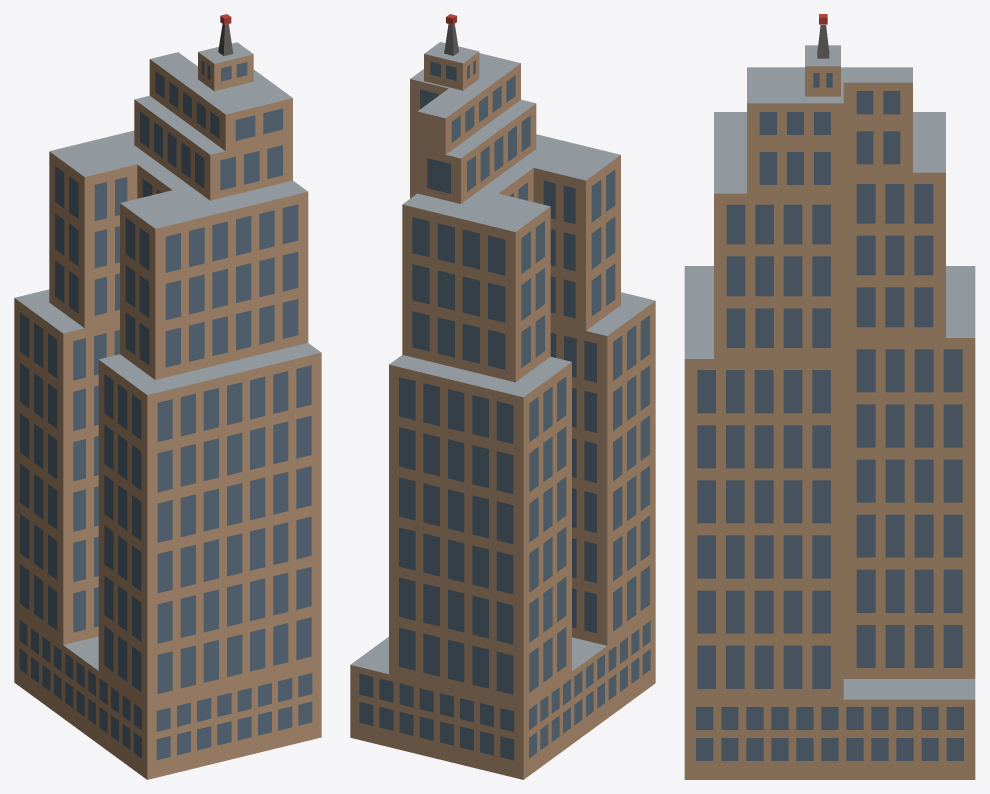
The model's file is pit-grant-building.glb.
The picture shows the model from 3 angles, left to right: view 1: azimuth 30°, elevation 25°; view 2: azimuth 150°, elevation 25°; view 3: azimuth 270°, elevation 25°; orthographic projection. The views are drawn at different scales.
Visible parts, largest first — view 1: Grant Building; view 2: Grant Building; view 3: Grant Building.
Boxes of the visible parts, <box> form: Grant Building: <box>14,14,321,779</box>; Grant Building: <box>350,14,655,779</box>; Grant Building: <box>684,14,975,779</box>.
Size of the model in its own units: 39.88 by 149 by 52.68.
